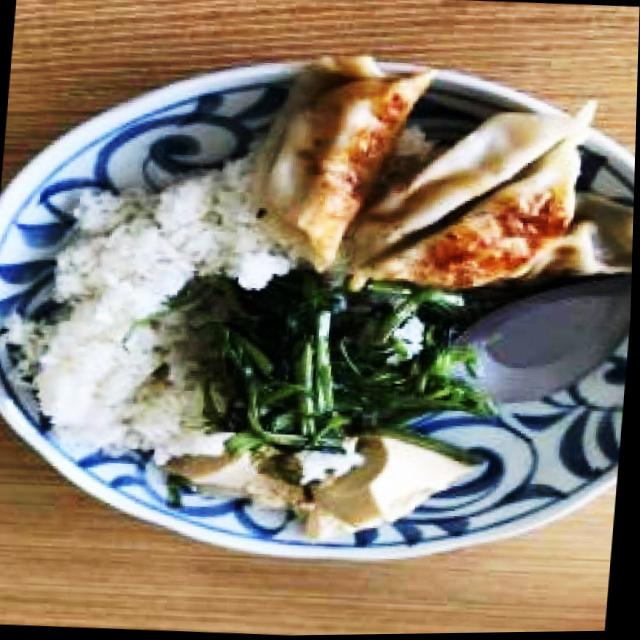fried_dumplings: (340, 85, 610, 294), (247, 50, 445, 281), (368, 126, 612, 292)
rice: (38, 137, 290, 465)
water_spinach: (193, 281, 466, 466)
